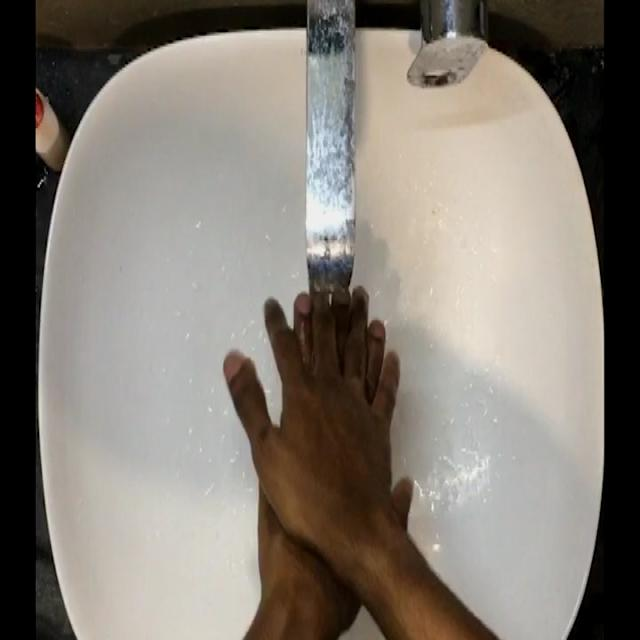step_2: (222, 258, 420, 595)
